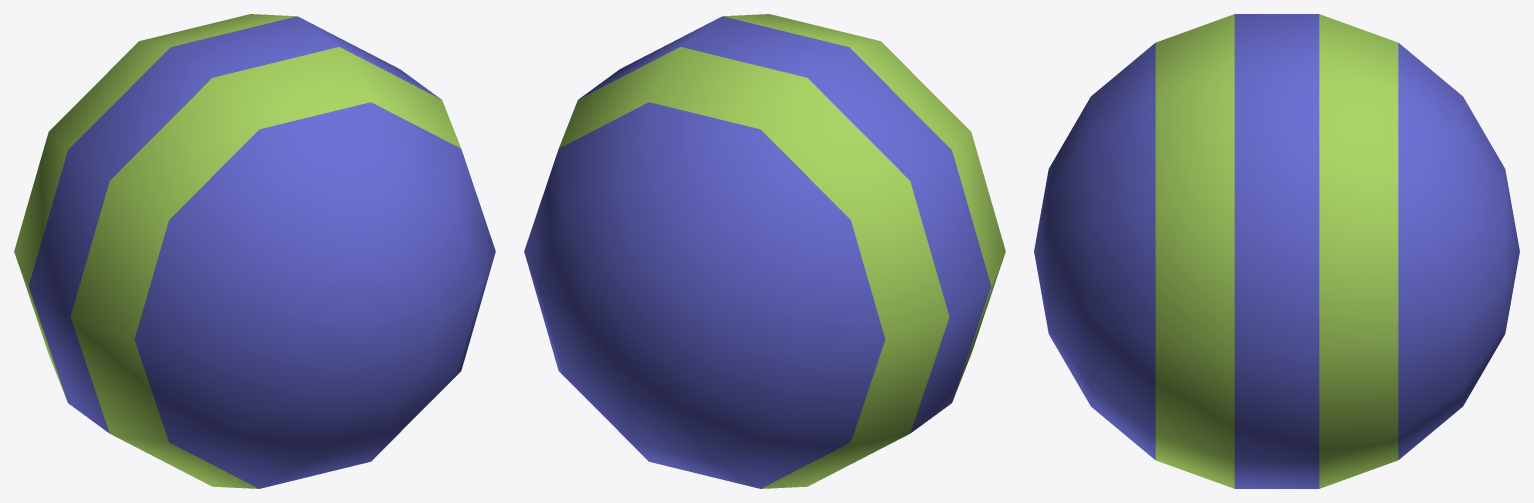
File: StationExplode.fbx
3 renders of one model, left to right at view 1: azimuth 30°, elevation 25°; view 2: azimuth 150°, elevation 25°; view 3: azimuth 270°, elevation 25°, orthographic.
Parts seen in each view (by area): view 1: Sphere; view 2: Sphere; view 3: Sphere.
Boxes of the visible parts, x1,y1,x2,y2 form: Sphere: (14,14,495,488); Sphere: (524,14,1005,488); Sphere: (1034,14,1519,488).
Bounding box in the file's own units: 1.97 × 1.87 × 2.
